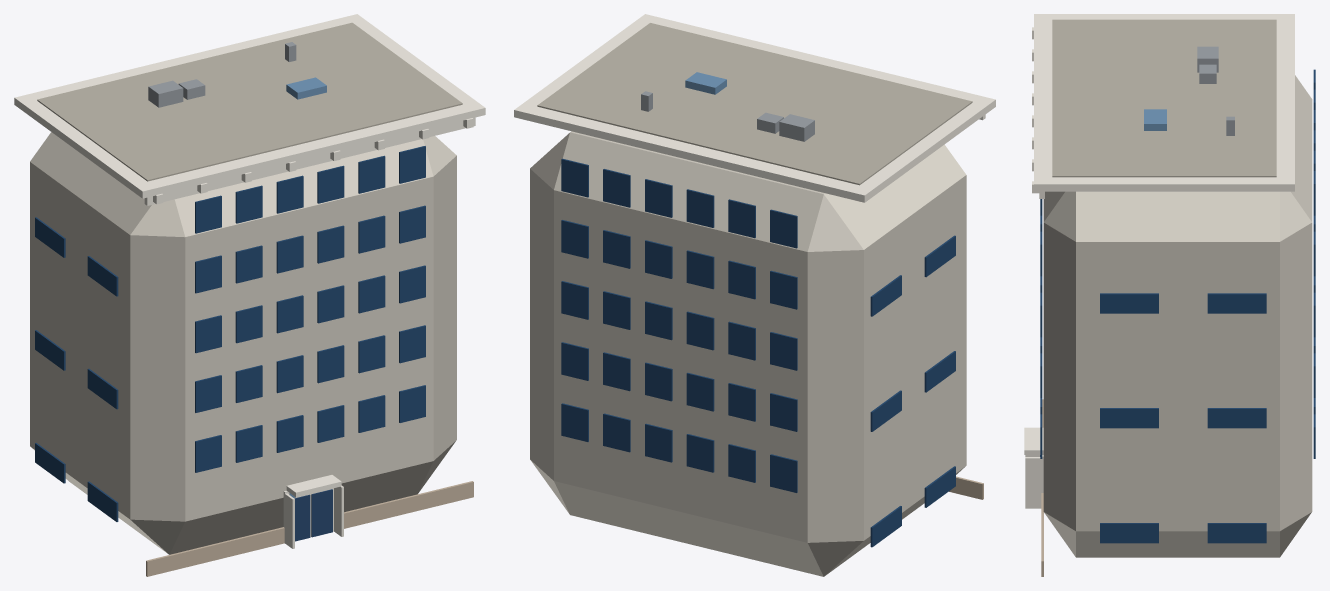
Rendered from apt_w20_f6_punched.glb.
The picture shows the model from 3 angles, left to right: view 1: azimuth 30°, elevation 25°; view 2: azimuth 150°, elevation 25°; view 3: azimuth 270°, elevation 25°; orthographic projection. The views are drawn at different scales.
Visible parts, largest first — view 1: walls, roofslab, corn, bsmt, frieze, door.001, win.013, win.015, win.016, win.014, win.019, win.020 (+34 smaller); view 2: walls, roofslab, corn, win.038, win.044, win.050, win.056, win.032, win.040, win.036, win.037, win.039 (+29 smaller); view 3: walls, roofslab, corn, sb.011, sb.003, sb.007, sb.001, sb.005, sb.009, cpost.001, canopy, skylt (+1 smaller).
Part boxes in pixels (left/top/right/bottom): walls: left=30, top=132, right=456, bottom=554; roofslab: left=37, top=22, right=462, bottom=181; corn: left=14, top=14, right=485, bottom=198; bsmt: left=146, top=481, right=473, bottom=576; frieze: left=144, top=117, right=475, bottom=205; door.001: left=311, top=489, right=332, bottom=537; win.013: left=235, top=305, right=262, bottom=343; win.015: left=317, top=285, right=344, bottom=323; win.016: left=358, top=275, right=385, bottom=313; win.014: left=276, top=295, right=303, bottom=333; win.019: left=235, top=245, right=262, bottom=283; win.020: left=276, top=235, right=303, bottom=273; walls: left=530, top=131, right=966, bottom=576; roofslab: left=537, top=23, right=972, bottom=185; corn: left=514, top=14, right=995, bottom=202; win.038: left=686, top=372, right=714, bottom=411; win.044: left=686, top=311, right=714, bottom=350; win.050: left=686, top=250, right=714, bottom=289; win.056: left=686, top=189, right=714, bottom=227; win.032: left=686, top=434, right=714, bottom=472; win.040: left=603, top=352, right=630, bottom=391; win.036: left=770, top=393, right=797, bottom=431; win.037: left=728, top=383, right=755, bottom=421; win.039: left=645, top=362, right=672, bottom=401; walls: left=1043, top=75, right=1312, bottom=557; roofslab: left=1052, top=19, right=1276, bottom=177; corn: left=1034, top=14, right=1294, bottom=191; sb.011: left=1207, top=293, right=1266, bottom=313; sb.003: left=1207, top=523, right=1266, bottom=543; sb.007: left=1207, top=408, right=1266, bottom=428; sb.001: left=1100, top=523, right=1158, bottom=543; sb.005: left=1100, top=408, right=1158, bottom=428; sb.009: left=1100, top=293, right=1158, bottom=313; cpost.001: left=1025, top=457, right=1041, bottom=508; canopy: left=1024, top=427, right=1043, bottom=454; skylt: left=1144, top=109, right=1166, bottom=130.
Size of the model in its own units: 21 by 23.8 by 15.17.
